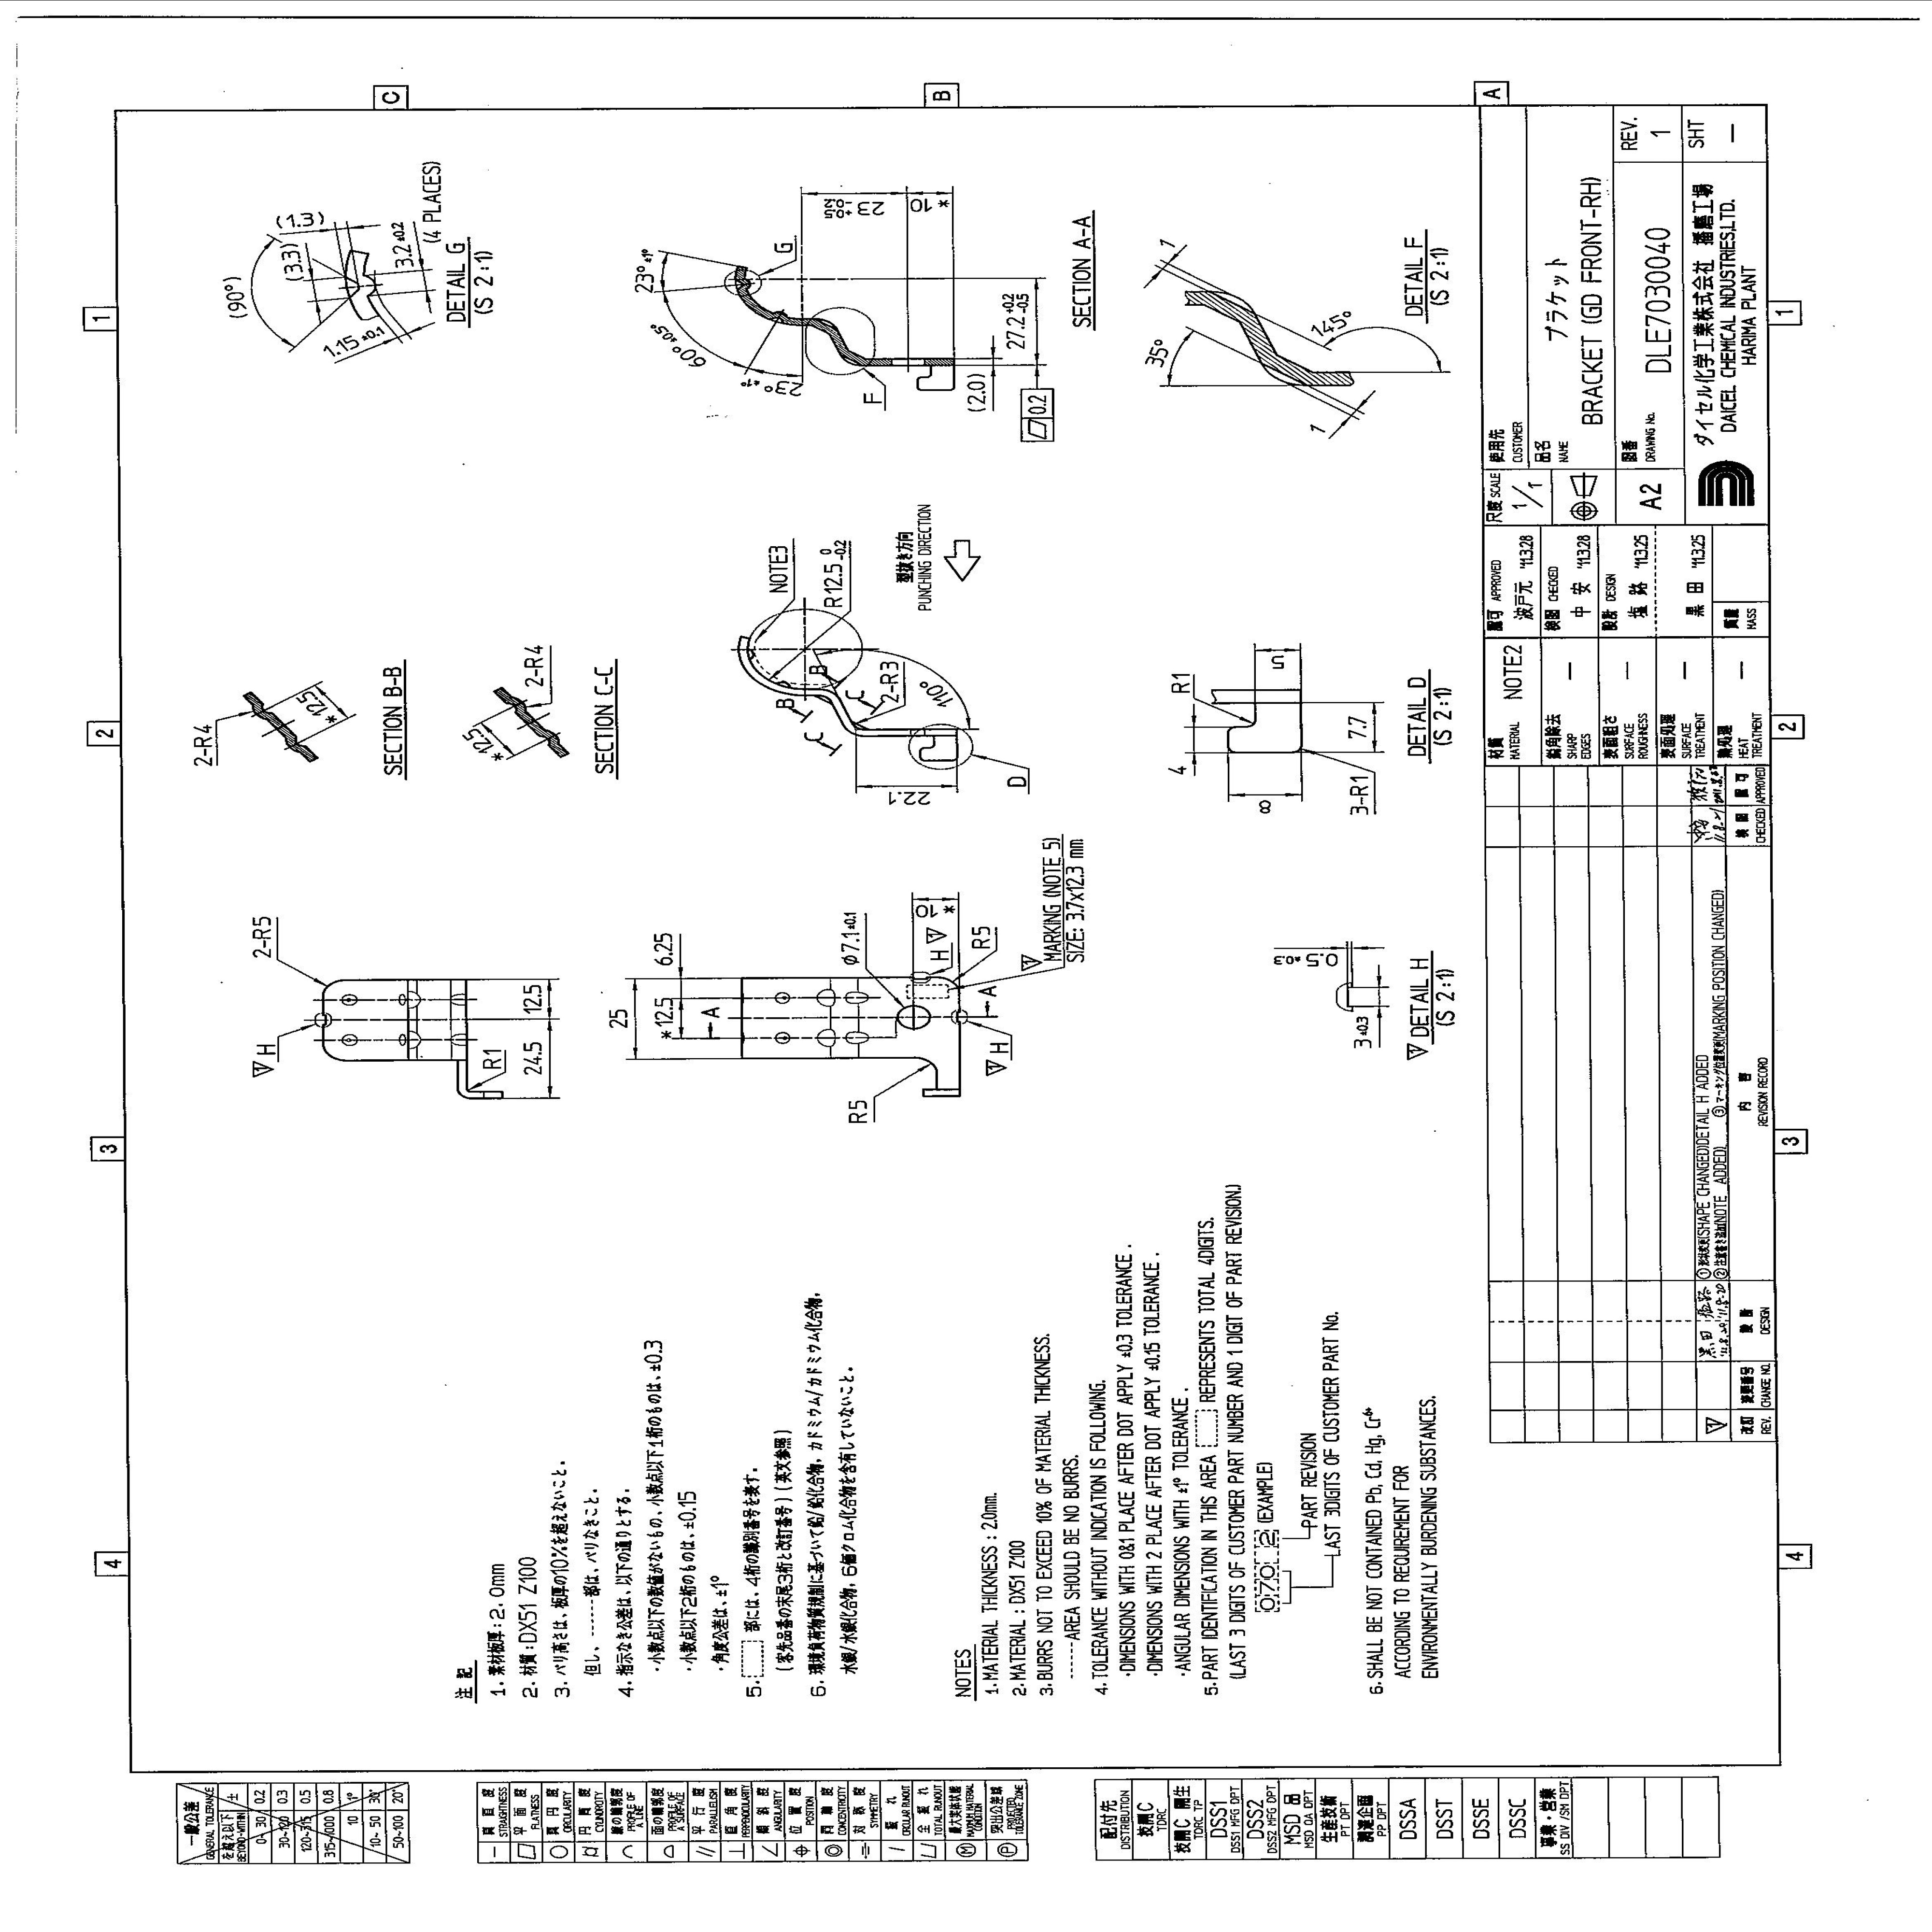InnerContour: (893, 1005, 932, 1031)
Notch: (955, 1010, 964, 1024), (320, 1014, 327, 1028), (911, 975, 929, 980)
